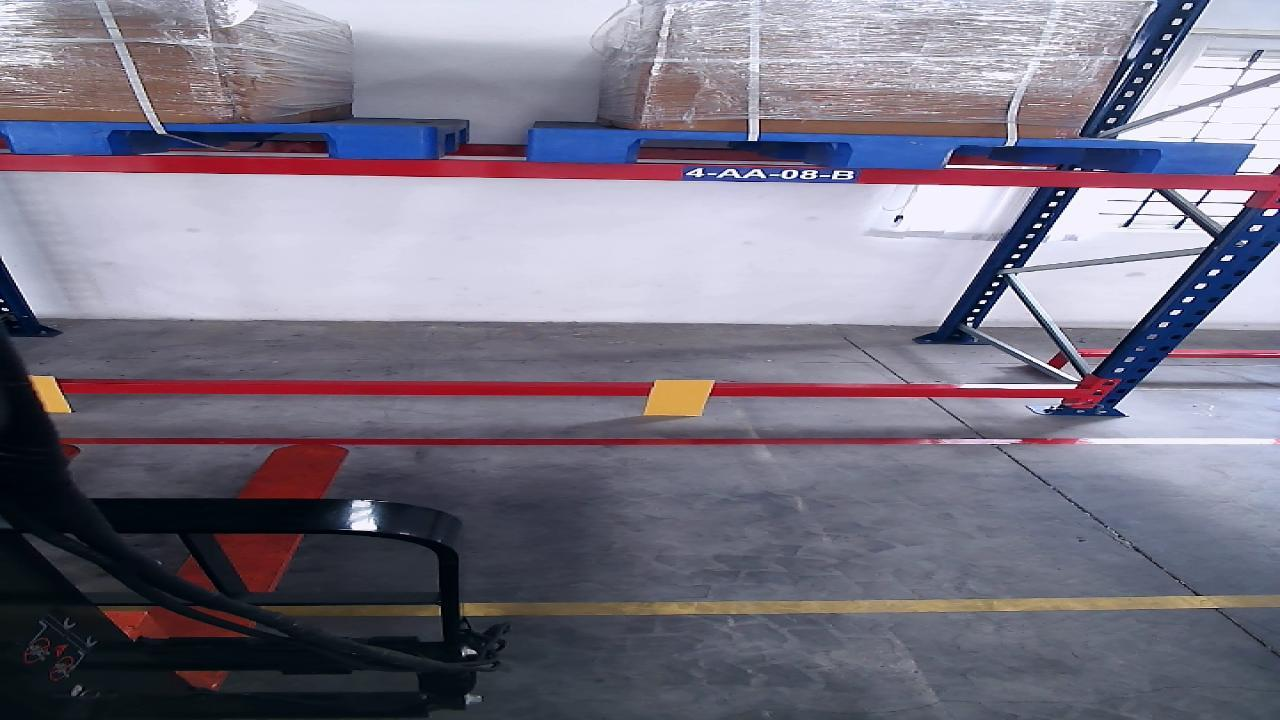h_rack: (5, 156, 1270, 190), (64, 383, 1071, 398)
orange_strip: (643, 380, 712, 414)
red_line: (55, 437, 1278, 443)
small_pallet: (528, 128, 1255, 173), (9, 121, 434, 159)
yellow_line: (271, 594, 1278, 615)
